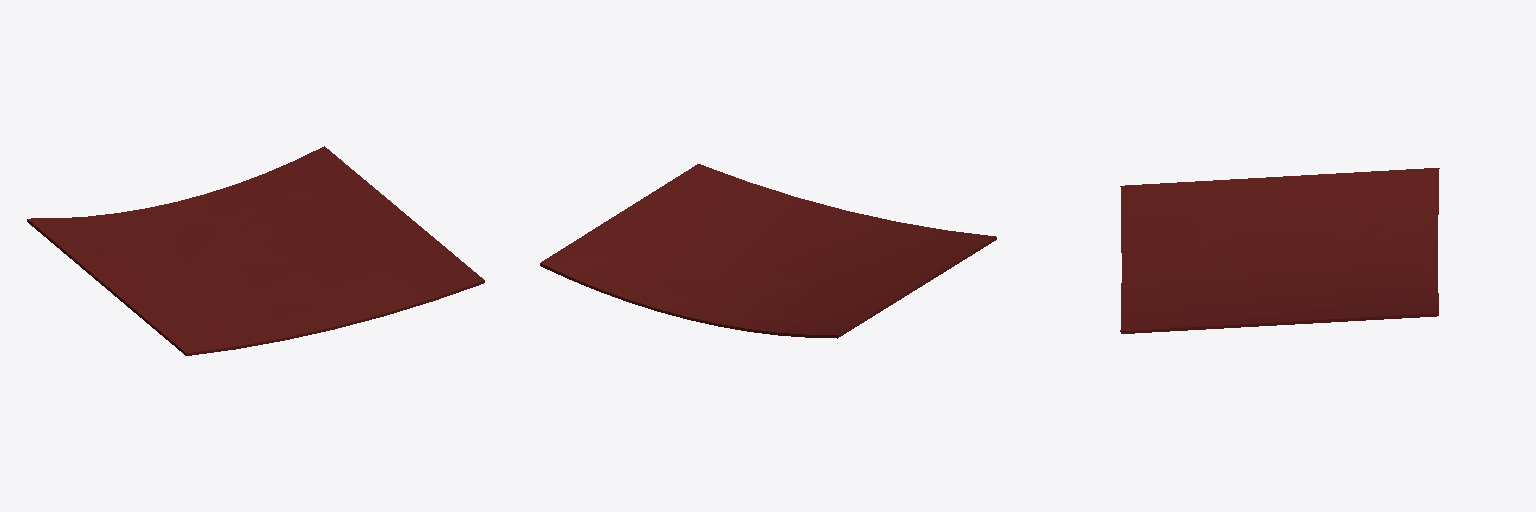
The model's file is back_visual.obj.
The picture shows the model from 3 angles: view 1: azimuth 30°, elevation 25°; view 2: azimuth 150°, elevation 25°; view 3: azimuth 270°, elevation 25°; orthographic projection.
Visible parts, largest first — view 1: back_visual.001; view 2: back_visual.001; view 3: back_visual.001.
Boxes of the visible parts, x1=… form: back_visual.001: x1=27, y1=146, x2=484, y2=355; back_visual.001: x1=540, y1=164, x2=996, y2=338; back_visual.001: x1=1120, y1=168, x2=1439, y2=333.
Size of the model in its own units: 0.4333 by 0.043 by 0.4009.